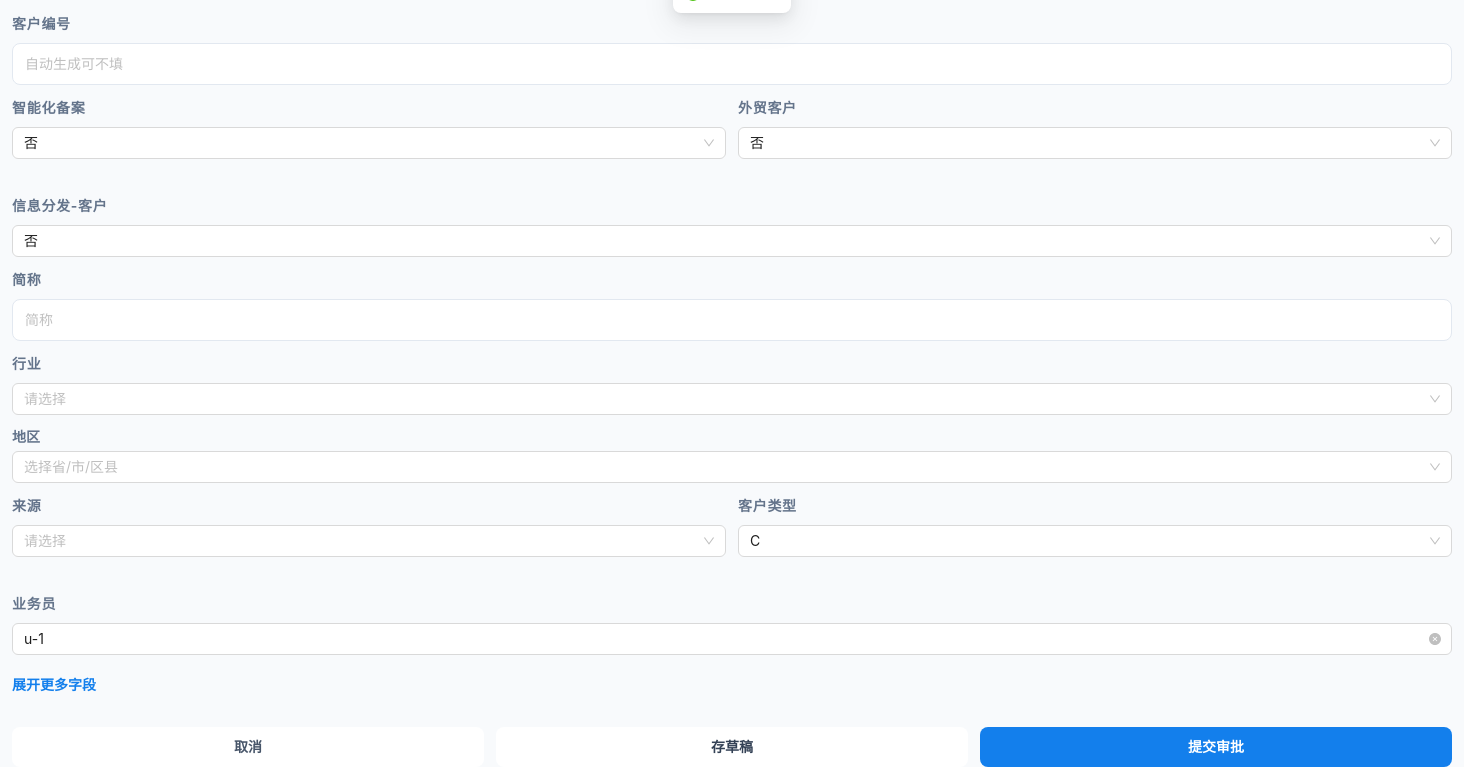
Test case: MobileCustomerForm › 渲染并展开更多字段
(page scrolled)
Click the button "展开更多字段". click: (54, 685)
box: [12, 667, 1452, 703]
(page scrolled)
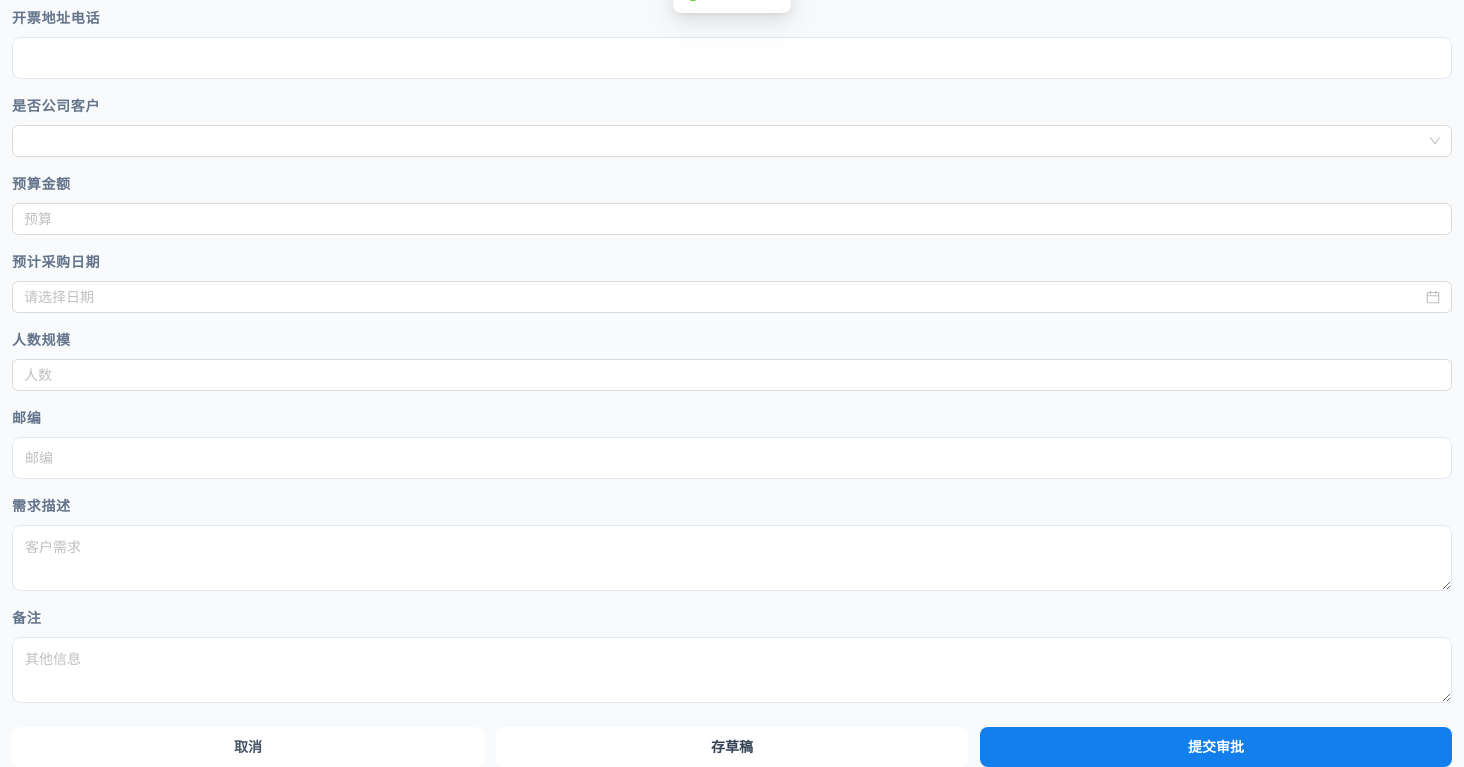
Result: the text "预算金额" is shown at [12, 174, 71, 194]
Result: the text "邮编" is shown at [12, 408, 41, 428]
